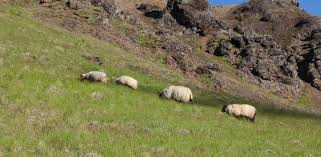sheep: (219, 98, 258, 124), (159, 83, 194, 105), (77, 68, 111, 87), (113, 72, 142, 93)
